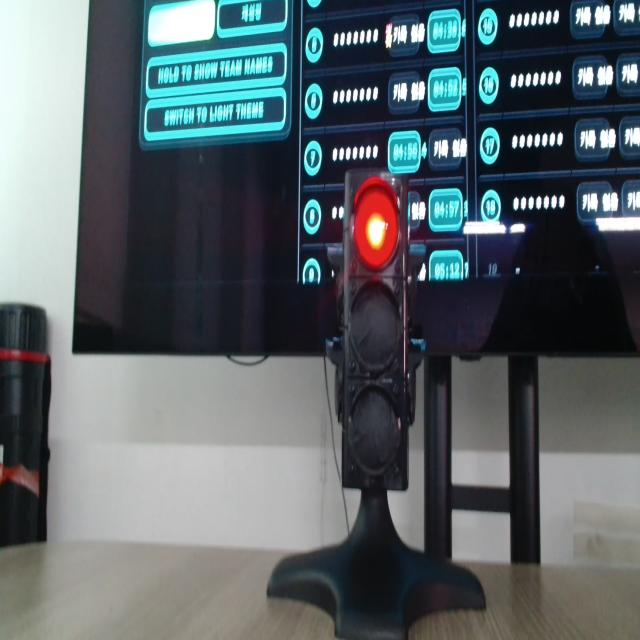red_light: (354, 177, 398, 269)
